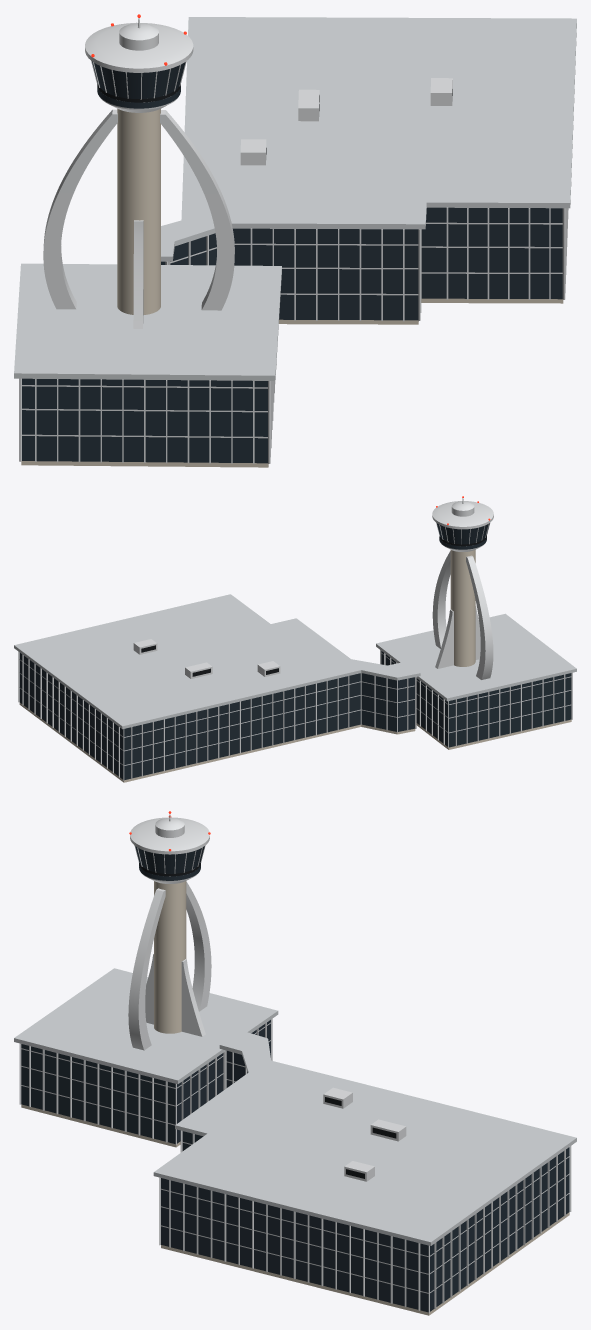
File: OMDB_tower.glb
The picture shows the model from 3 angles, top to bottom: view 1: azimuth 30°, elevation 25°; view 2: azimuth 150°, elevation 25°; view 3: azimuth 270°, elevation 25°; orthographic projection. The views are drawn at different scales.
Visible parts, largest first — view 1: ATC_Tower, ATC_Details, ATC_Glazing; view 2: ATC_Tower, ATC_Details, ATC_Glazing; view 3: ATC_Tower, ATC_Details, ATC_Glazing.
Boxes of the visible parts, box(x1,y1,x2,y2) form: ATC_Tower: box(14, 17, 576, 467); ATC_Details: box(19, 61, 568, 463); ATC_Glazing: box(92, 61, 185, 108); ATC_Tower: box(14, 498, 576, 782); ATC_Details: box(18, 523, 572, 780); ATC_Glazing: box(436, 523, 489, 549); ATC_Tower: box(14, 814, 576, 1315); ATC_Details: box(19, 845, 571, 1313); ATC_Glazing: box(135, 846, 204, 880).
Size of what is drawn, in the model's own units: 189 by 89.65 by 160.
